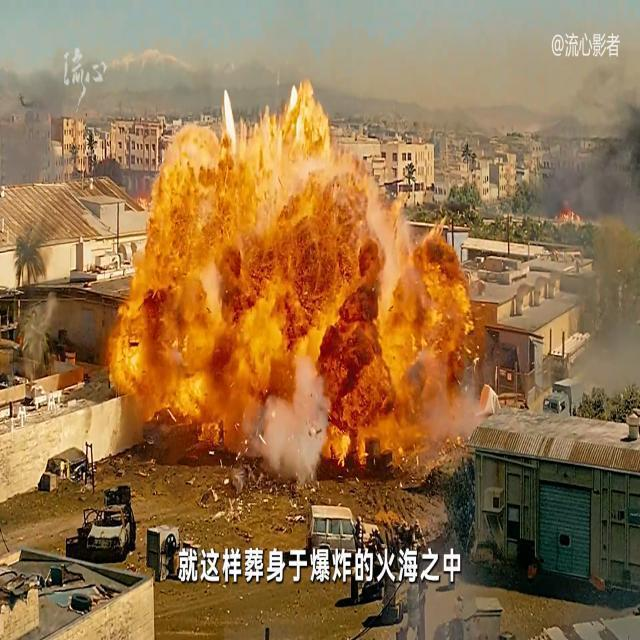fire: (99, 74, 472, 474)
